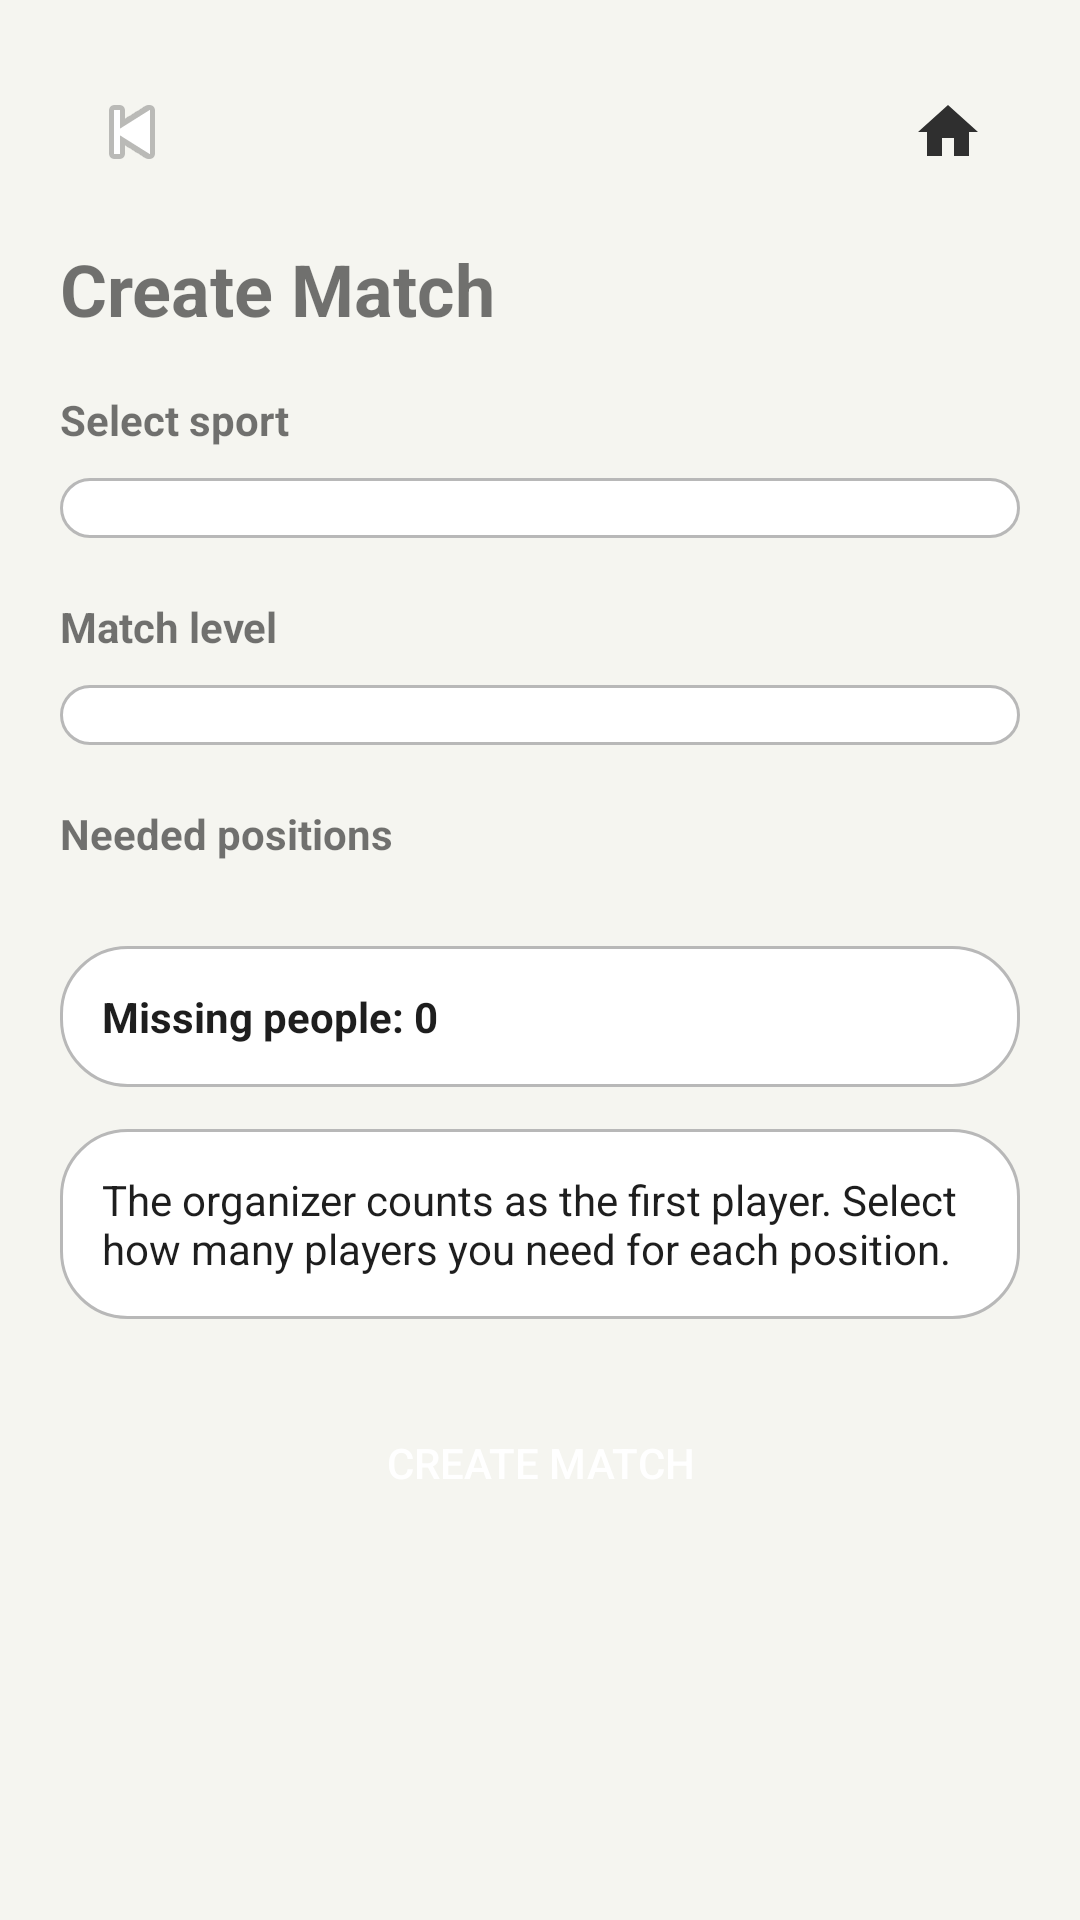

Icons on this 1080px x 1920px Android screen, each with the point to tap as point (x, y):
Back: point (132, 132)
Home: point (948, 130)
